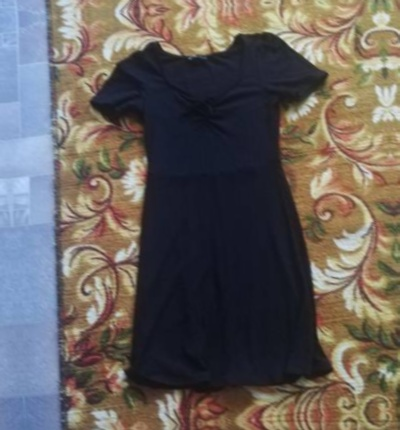Dress: (58, 13, 382, 403)
